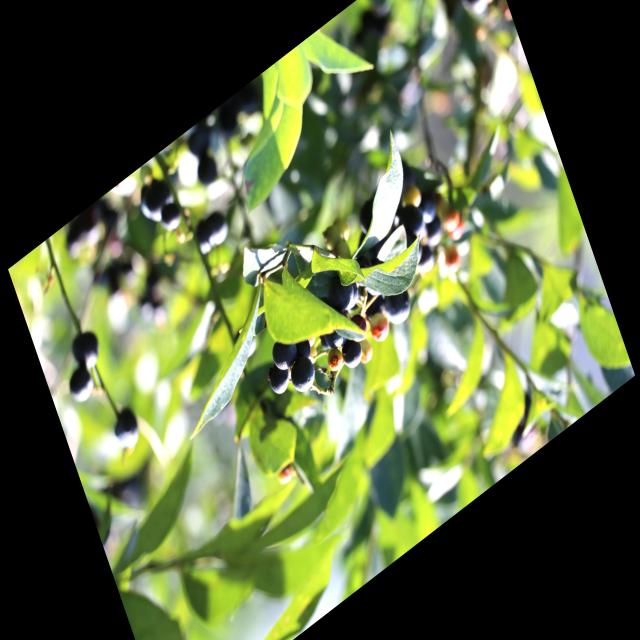blueberry: (376, 275, 416, 334), (325, 266, 360, 318), (266, 329, 300, 378), (286, 350, 319, 398), (336, 331, 366, 374), (264, 357, 292, 400)
blueberry-halfripe: (366, 305, 394, 347), (347, 306, 369, 340)
blueberry-unripe: (319, 221, 343, 255), (329, 211, 352, 246), (324, 341, 346, 375), (332, 236, 353, 268), (356, 336, 376, 367)
